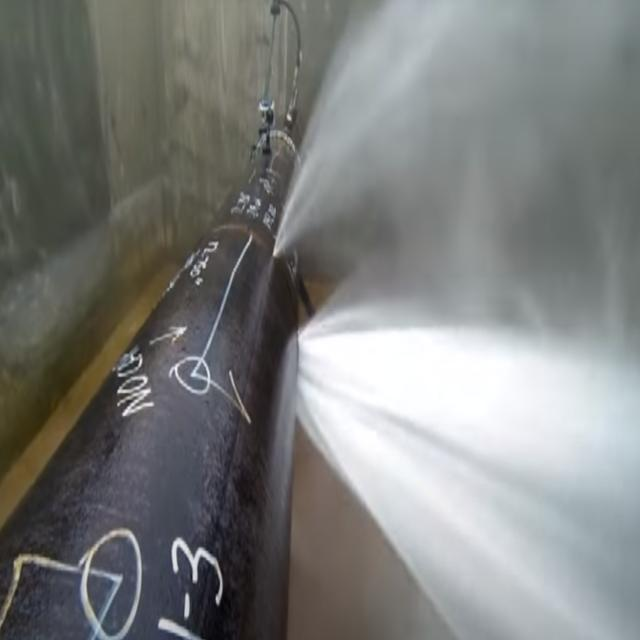leak: (276, 2, 640, 636)
